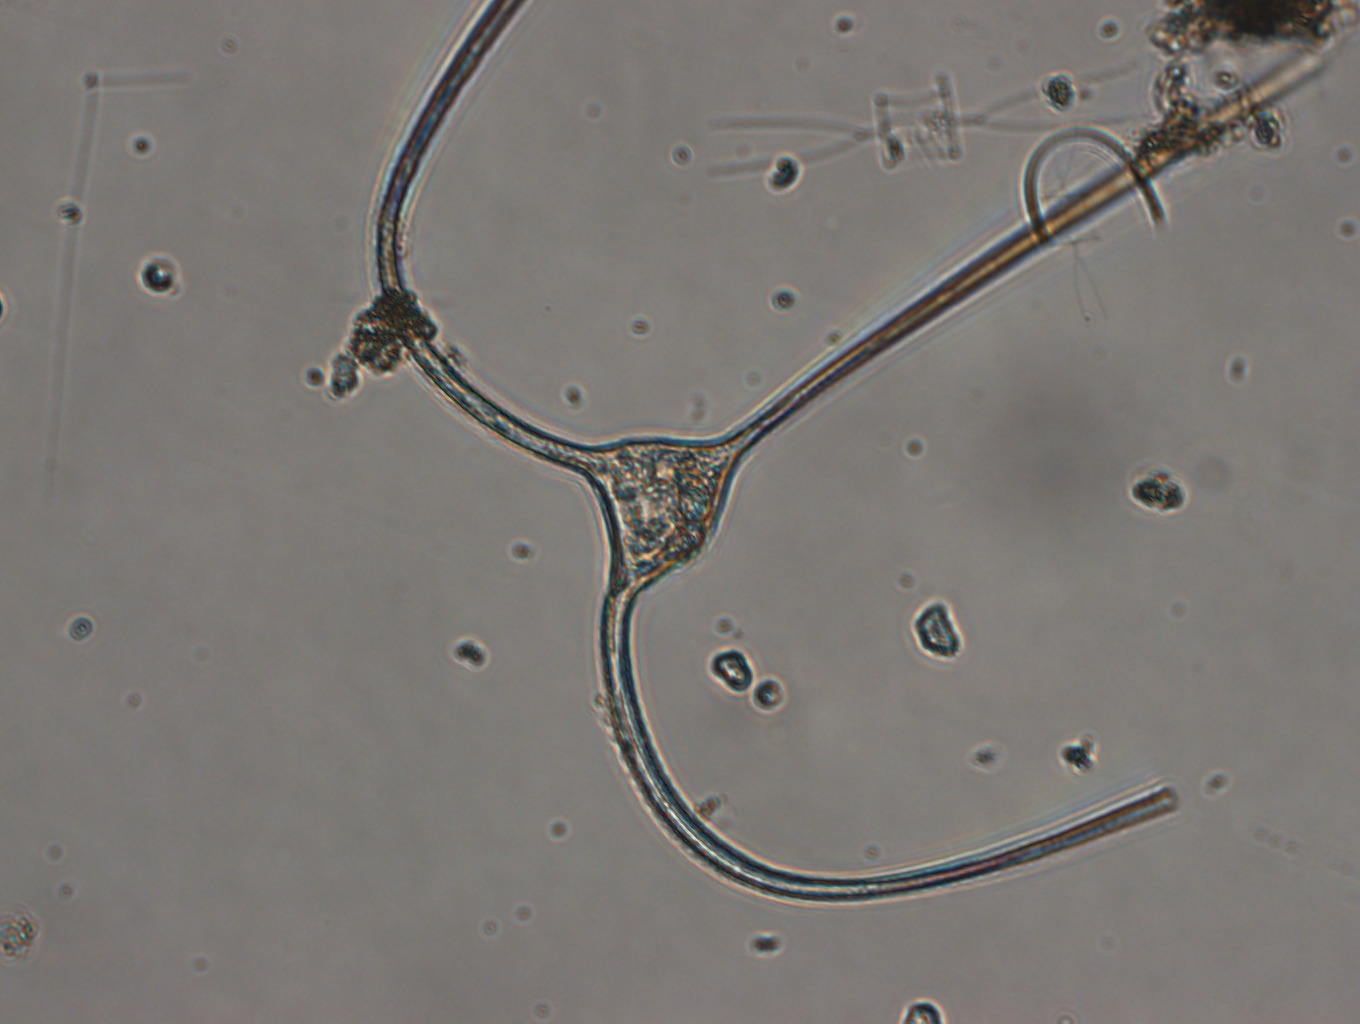ceratium trichoceros: (367, 6, 1360, 913)
